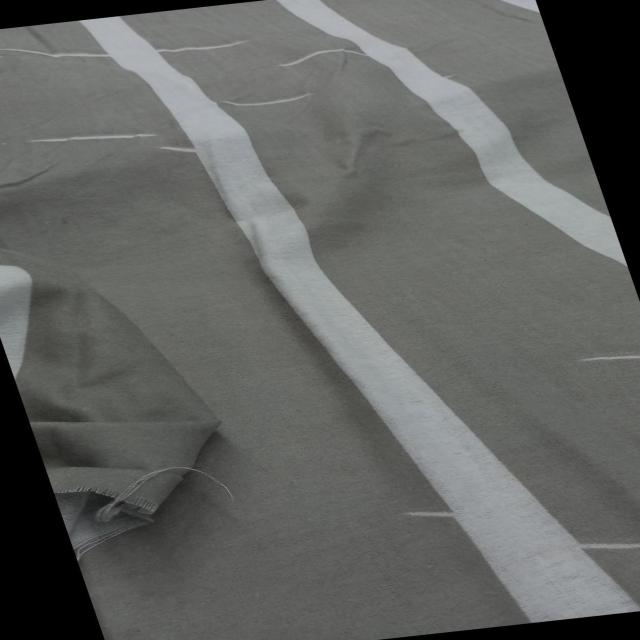selvet: (0, 8, 264, 90), (22, 115, 183, 154), (207, 82, 337, 118), (393, 493, 513, 528), (274, 42, 376, 77), (562, 526, 640, 563), (573, 338, 640, 381), (142, 141, 208, 164)
